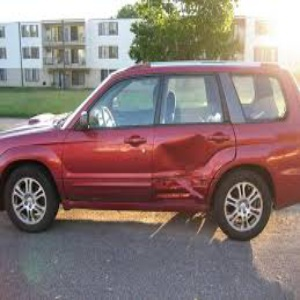door: (127, 130, 219, 200)
